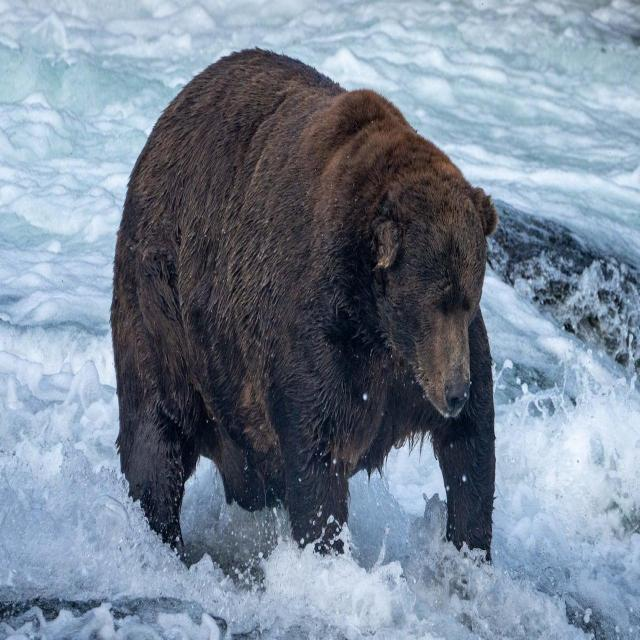Bear: (109, 50, 498, 567)
